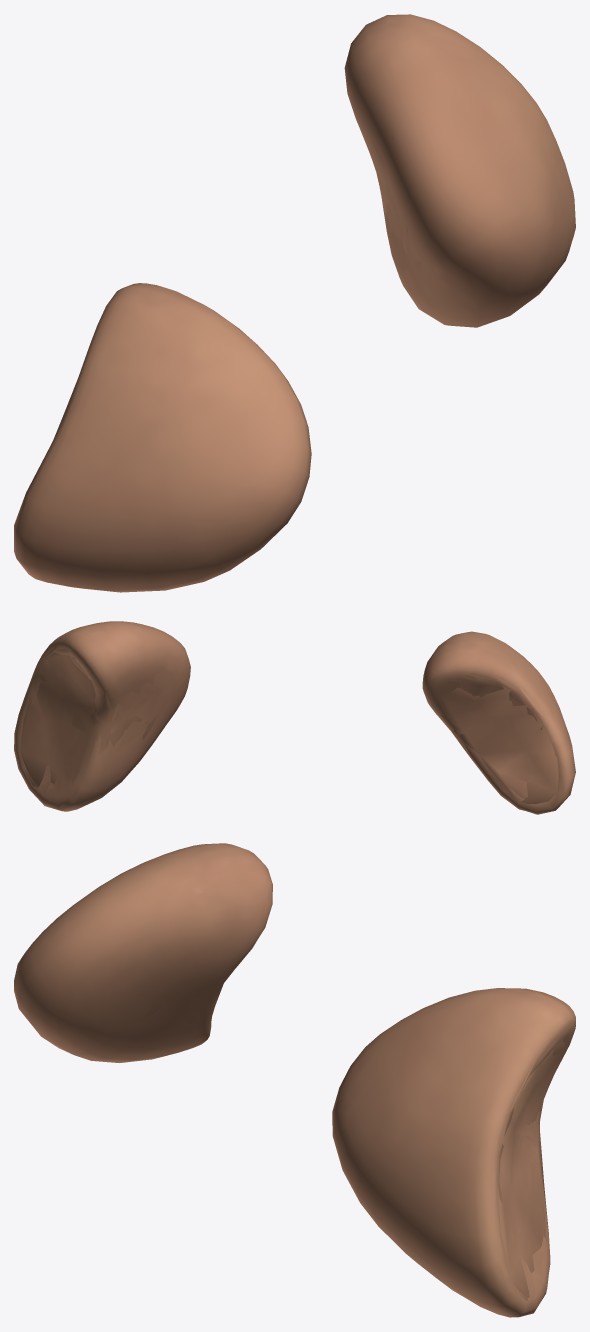
The model's file is Adrenal Glands.fbx.
3 renders of one model, top to bottom at view 1: azimuth 30°, elevation 25°; view 2: azimuth 150°, elevation 25°; view 3: azimuth 270°, elevation 25°, orthographic. The views are drawn at different scales.
Visible parts, largest first — view 1: Adrenal Glands high, Adrenal Glands; view 2: Adrenal Glands high, Adrenal Glands low, Adrenal Glands; view 3: Adrenal Glands high, Adrenal Glands low, Adrenal Glands.
Part boxes in pixels (x1,y1,x2,y2): Adrenal Glands high: (14, 14, 575, 592); Adrenal Glands: (55, 128, 421, 435); Adrenal Glands high: (14, 621, 575, 814); Adrenal Glands low: (20, 652, 558, 804); Adrenal Glands: (20, 646, 557, 799); Adrenal Glands high: (14, 843, 575, 1317); Adrenal Glands low: (161, 971, 563, 1297); Adrenal Glands: (55, 950, 565, 1300).
Size of the model in its own units: 2.63 by 1.06 by 1.9.
Materials: 1 (1 with a texture image).
